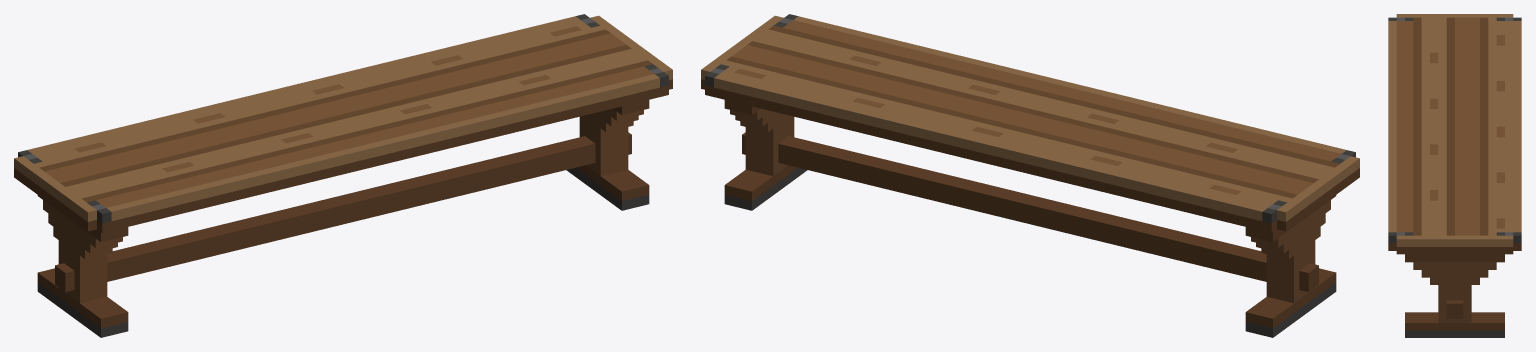
Rendered from communal_table.glb.
The picture shows the model from 3 angles, left to right: view 1: azimuth 30°, elevation 25°; view 2: azimuth 150°, elevation 25°; view 3: azimuth 270°, elevation 25°; orthographic projection. The views are drawn at different scales.
Parts seen in each view (by area): view 1: communal_table; view 2: communal_table; view 3: communal_table.
Part boxes in pixels (left/top/right/bottom): communal_table: left=14, top=14, right=672, bottom=337; communal_table: left=701, top=14, right=1359, bottom=337; communal_table: left=1388, top=14, right=1521, bottom=337.
Bounding box in the file's own units: 8 × 1.75 × 2.
